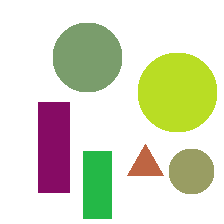circle: (138, 53, 216, 131), (53, 23, 121, 91), (169, 149, 213, 193)
rectangle: (38, 102, 69, 192), (83, 151, 111, 218)
triangle: (127, 144, 163, 175)
